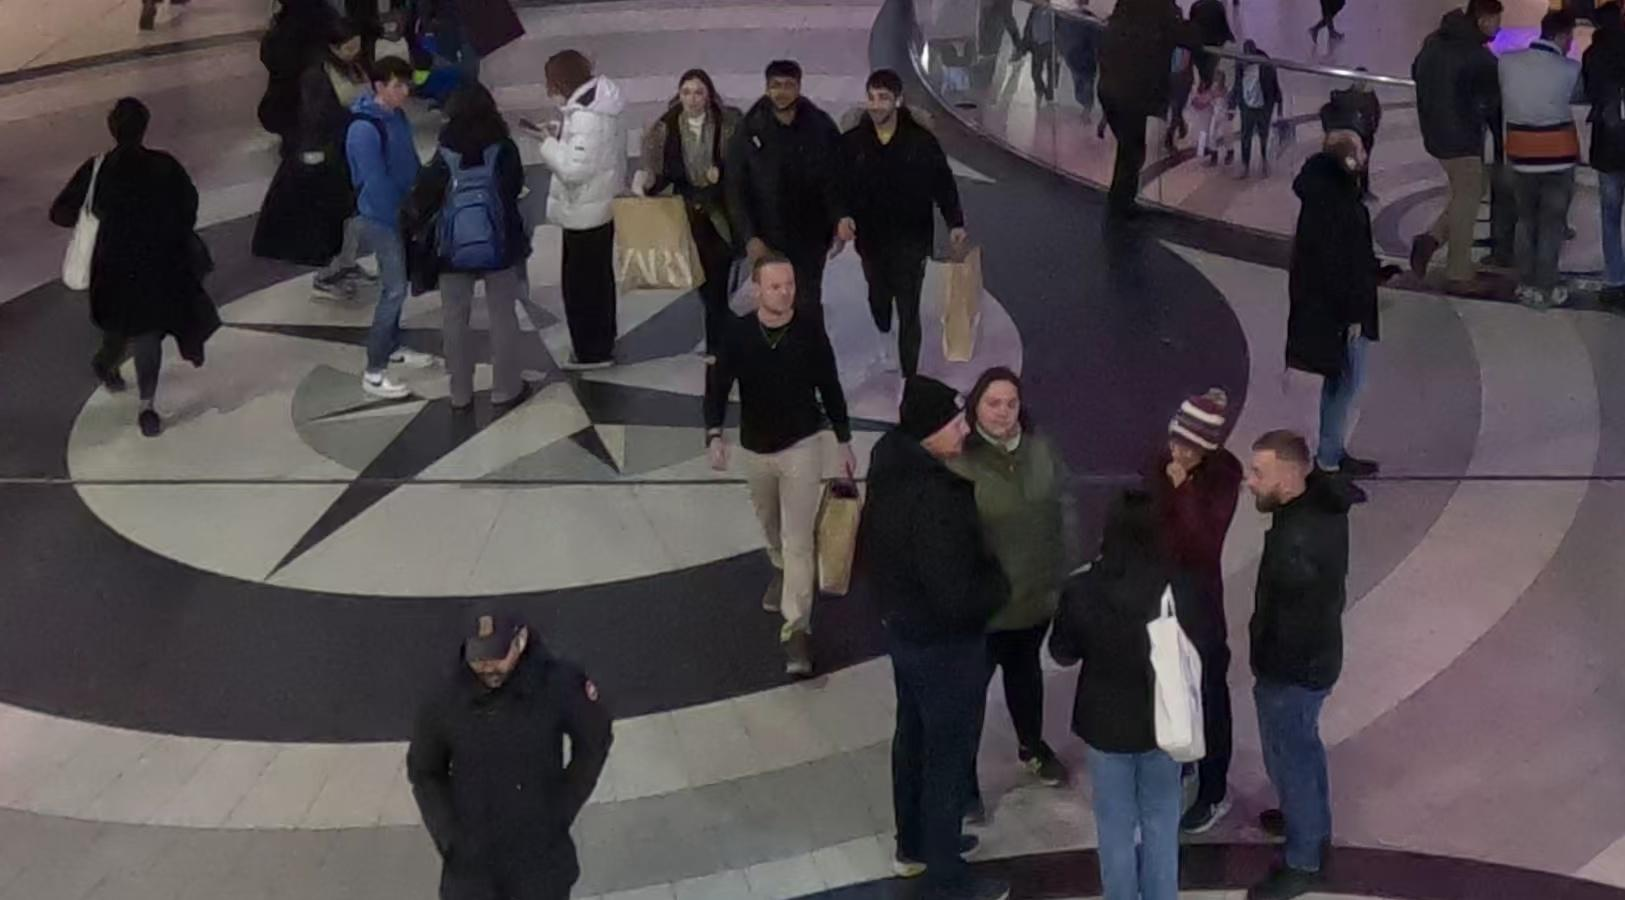person: (873, 371, 1027, 897), (1043, 489, 1214, 900), (706, 243, 860, 680), (406, 609, 616, 900), (1227, 416, 1342, 895), (76, 95, 222, 451), (1267, 127, 1384, 522), (841, 67, 960, 420), (338, 51, 441, 409), (531, 46, 635, 392), (731, 49, 856, 322)
